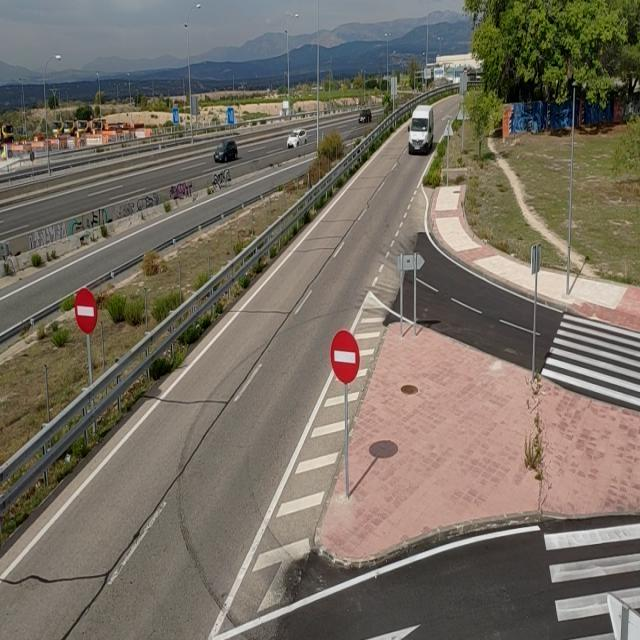Car: (213, 140, 238, 162), (286, 130, 307, 148), (358, 108, 372, 124)
Van: (407, 104, 435, 155)
